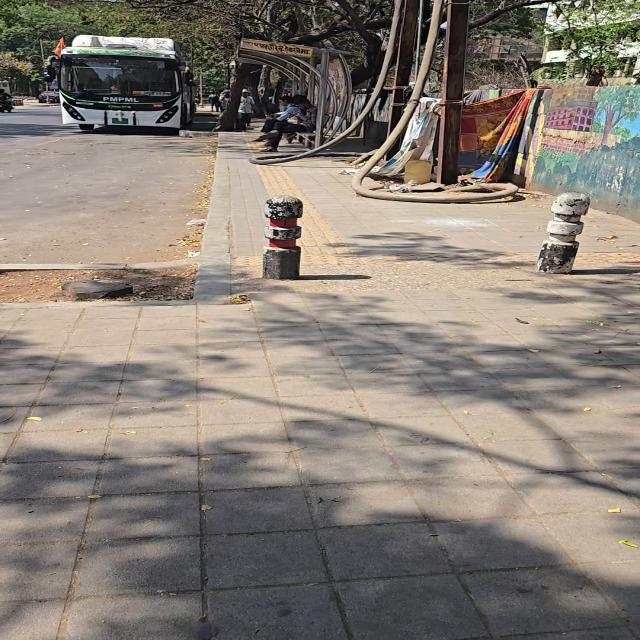obstacle: (437, 0, 468, 184), (537, 192, 590, 273), (388, 0, 419, 132), (263, 196, 302, 279), (315, 49, 329, 146), (413, 0, 424, 81), (287, 132, 315, 147), (200, 71, 204, 107), (40, 39, 45, 65), (40, 39, 45, 63)
person: (264, 97, 317, 151), (255, 96, 301, 141), (238, 90, 255, 129), (208, 92, 220, 112), (220, 89, 230, 111)
